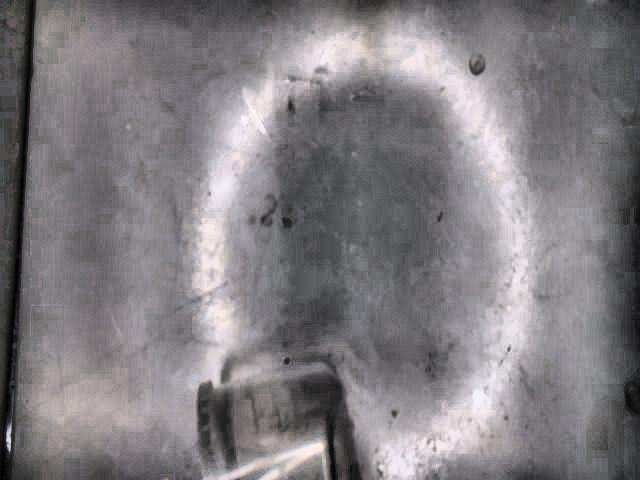Plastic: (194, 358, 360, 480)
